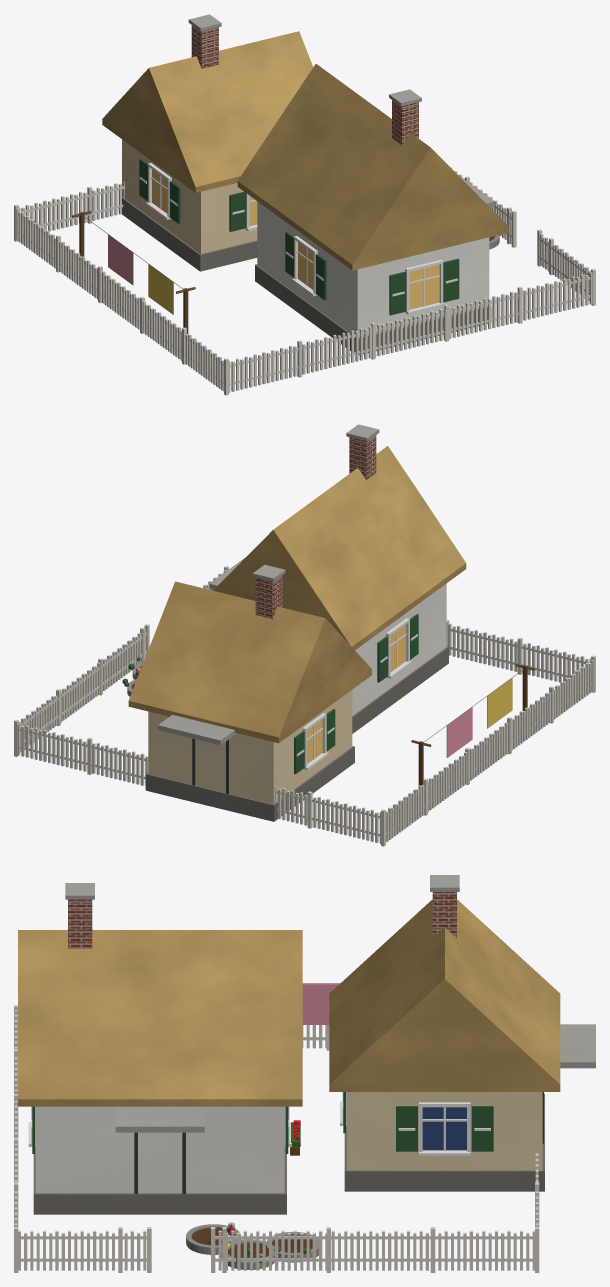
File: dum_19_chatky.glb
3 views of the same model, one above another, from view 1: azimuth 30°, elevation 25°; view 2: azimuth 150°, elevation 25°; view 3: azimuth 270°, elevation 25° (orthographic). The views are drawn at different scales.
Visible parts, largest first — view 1: dum, noc; view 2: dum, noc; view 3: dum.
Boxes of the visible parts, <box> form: dum: <box>14,14,595,395</box>; noc: <box>152,169,439,309</box>; dum: <box>14,424,595,846</box>; noc: <box>307,624,405,763</box>; dum: <box>14,875,595,1272</box>.
Size of the model in its own units: 11.79 by 6.98 by 12.94.
Materials: 1 (1 with a texture image).
